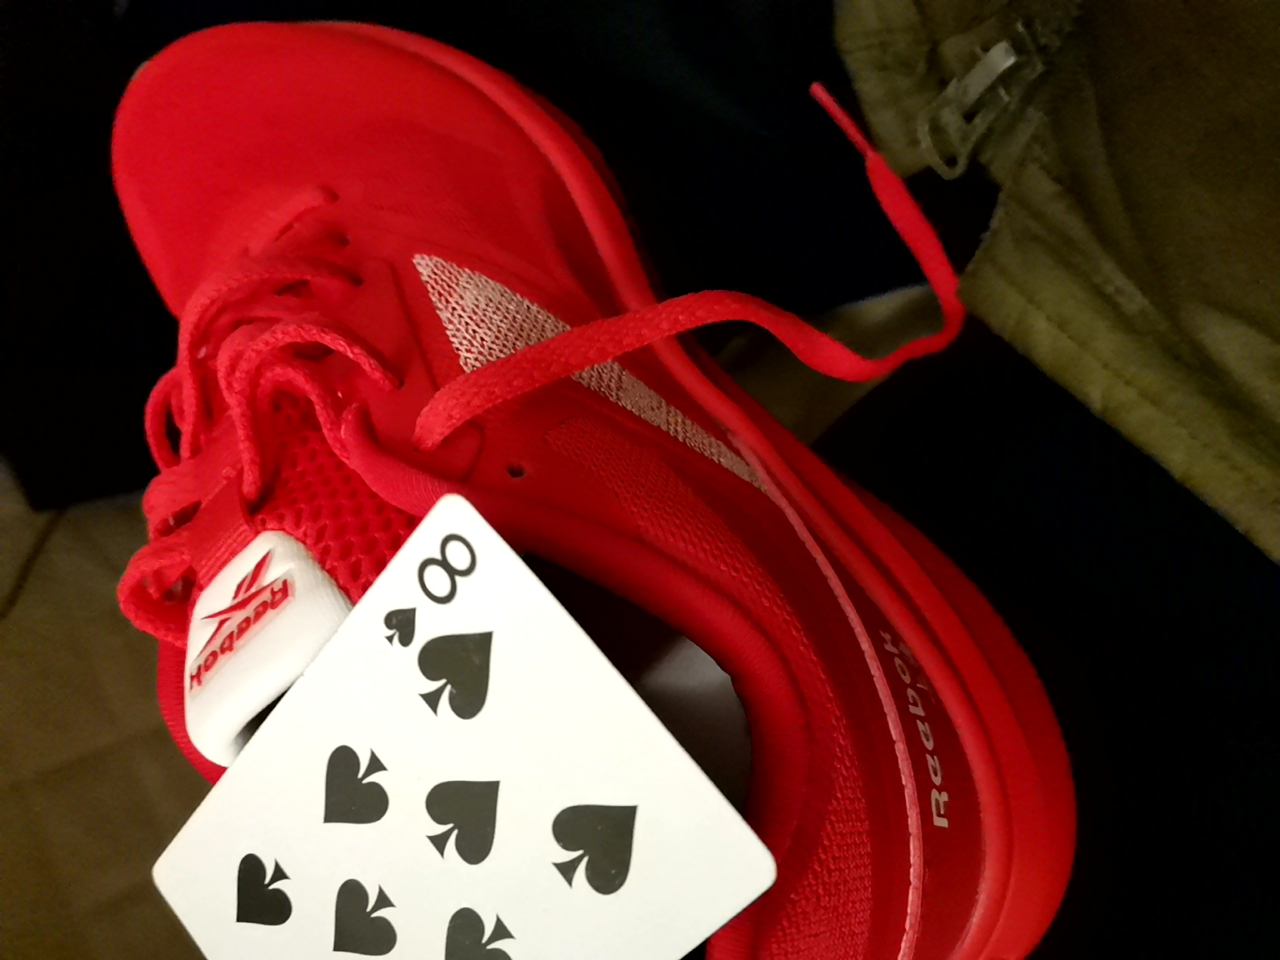ht 8: (136, 500, 805, 943)
